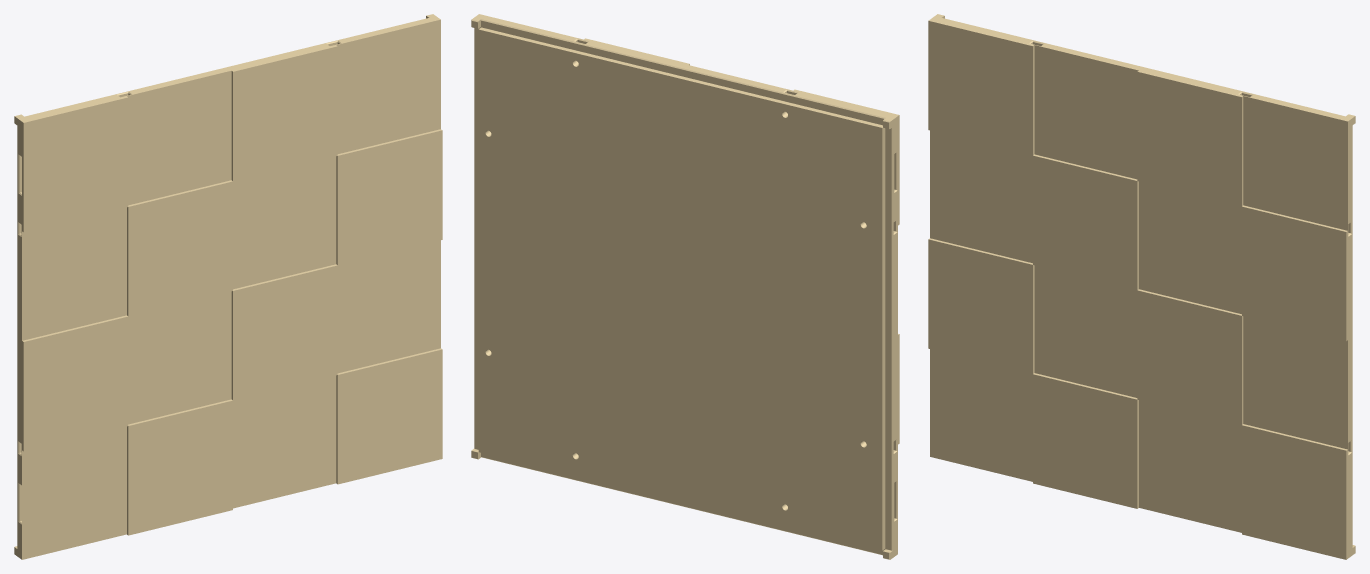
The model's file is .quarter_ne_light_body.step.glb.
The picture shows the model from 3 angles, left to right: view 1: azimuth 30°, elevation 25°; view 2: azimuth 150°, elevation 25°; view 3: azimuth 330°, elevation 25°; orthographic projection.
Visible parts, largest first — view 1: o1; view 2: o1; view 3: o1.
Boxes of the visible parts, x1,y1,x2,y2 form: o1: [14, 14, 442, 559]; o1: [471, 14, 899, 559]; o1: [928, 14, 1355, 559].
Bounding box in the file's own units: 0.24 × 0.24 × 0.0096.
